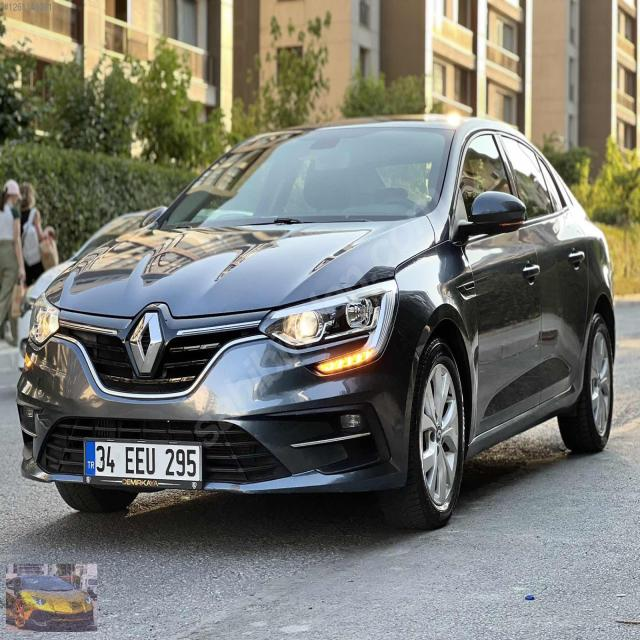renault: (128, 312, 163, 377)
